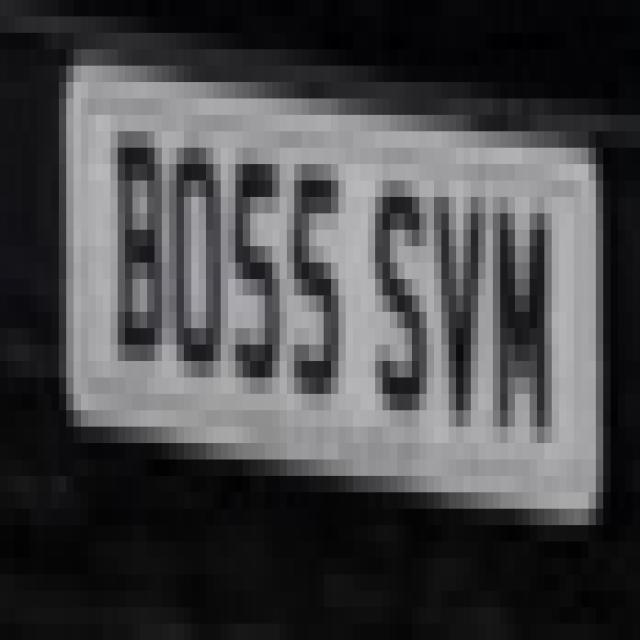0: (166, 135, 224, 391)
5: (289, 150, 345, 407), (229, 141, 283, 390)
B: (108, 122, 166, 366)
M: (492, 176, 562, 462)
S: (369, 166, 431, 423)
V: (431, 161, 488, 449)
